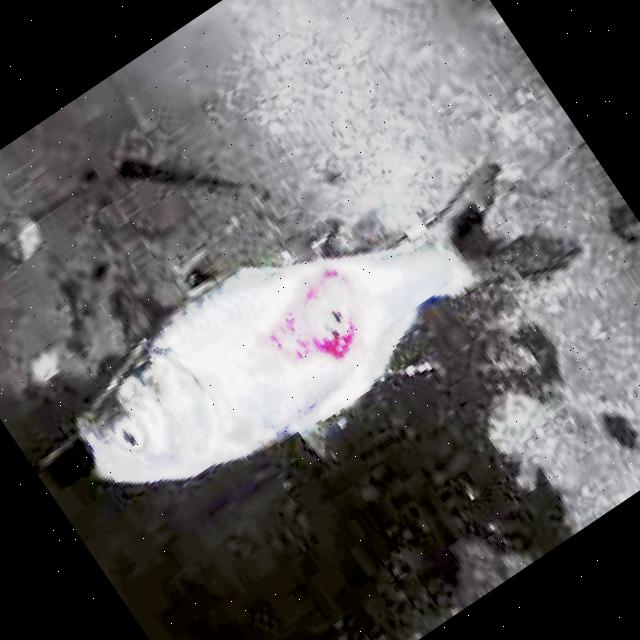Edwardsiella Ictaluri -Bacterial Red Disease-: (78, 163, 579, 483)
